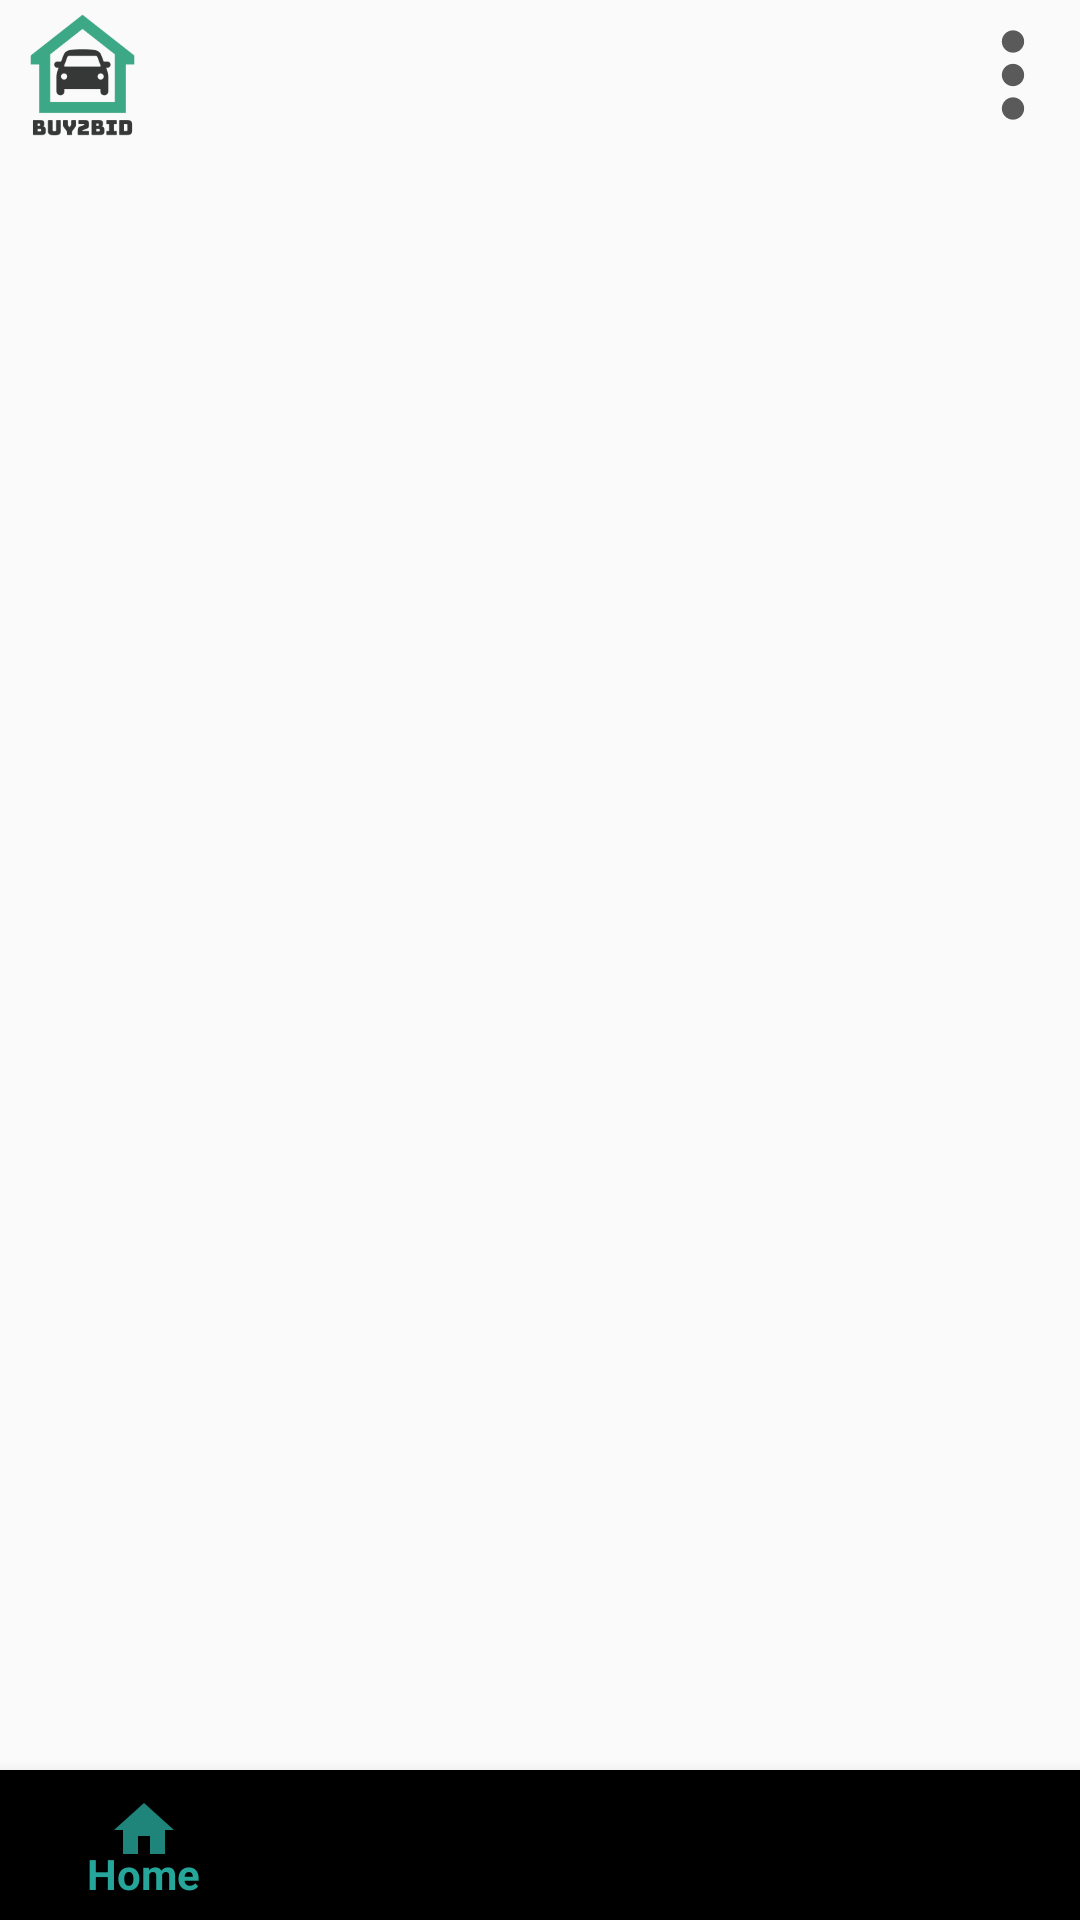

Icon click points for this 1080x1920 phone screenshot, format point (x, y):
overflow: point (1012, 75)
